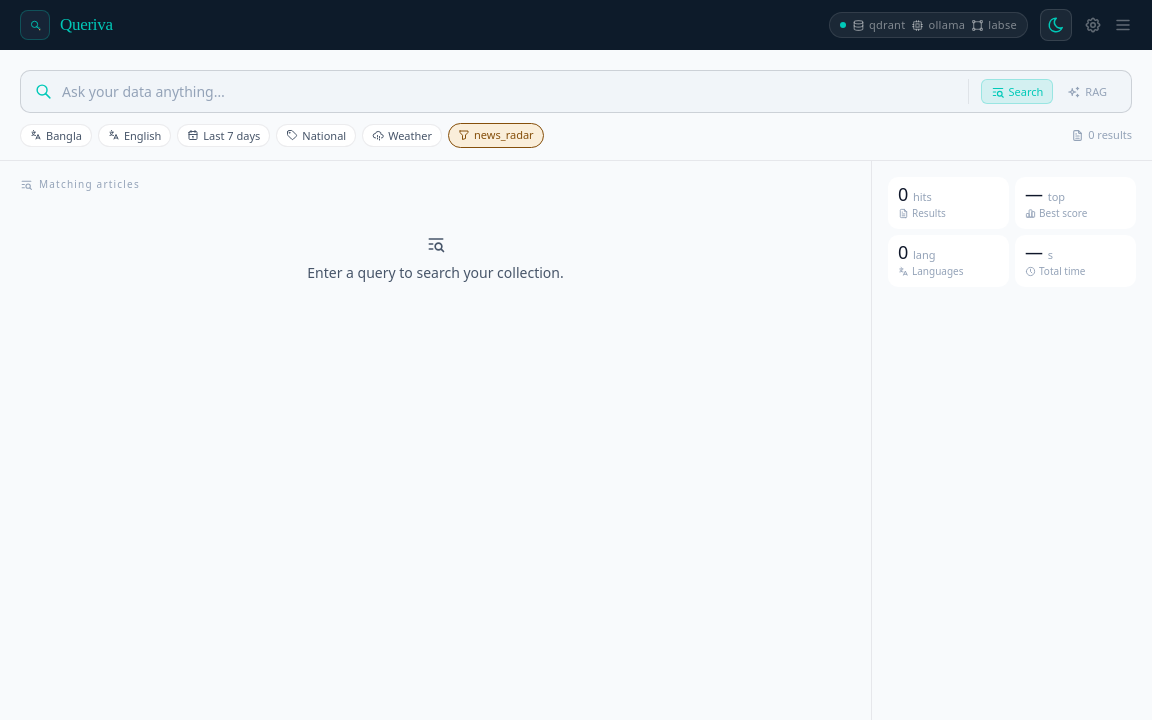
Test: App › should show ranked results after search flow in search mode
The width and height of the screenshot is (1152, 720).
Type "floods in Dhaka last week" into the search field named "Search query".
click(510, 92); type("floods in Dhaka last week")  # box [62, 71, 958, 112]
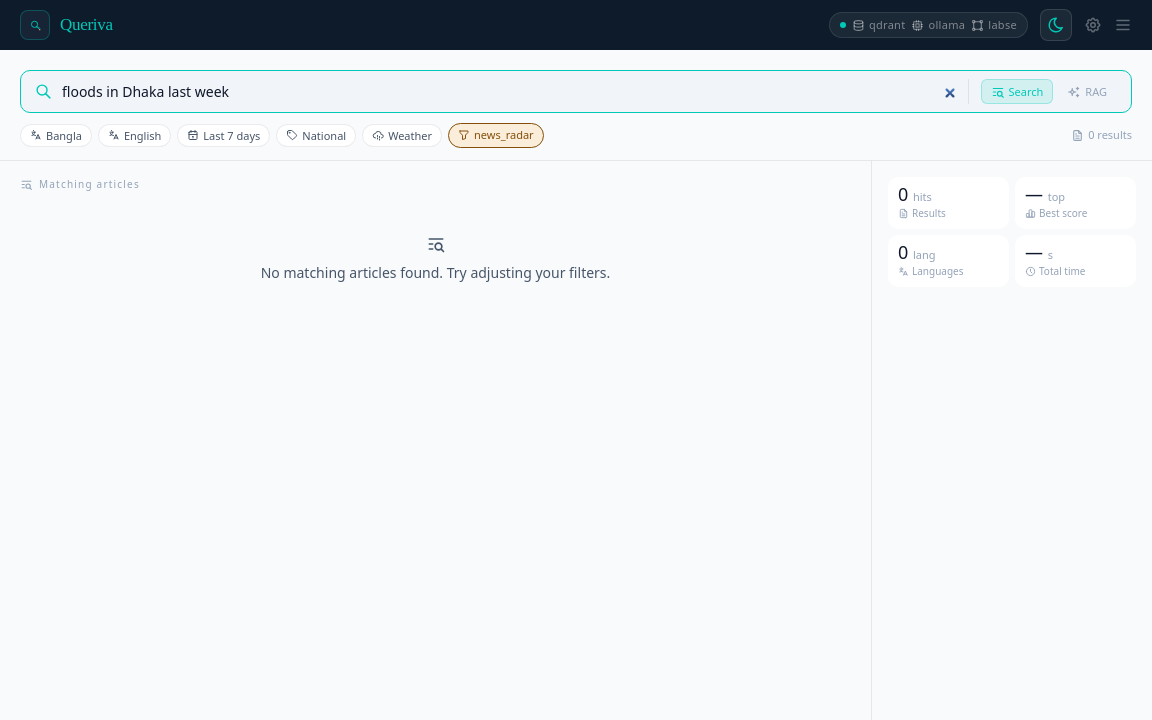
Press Enter
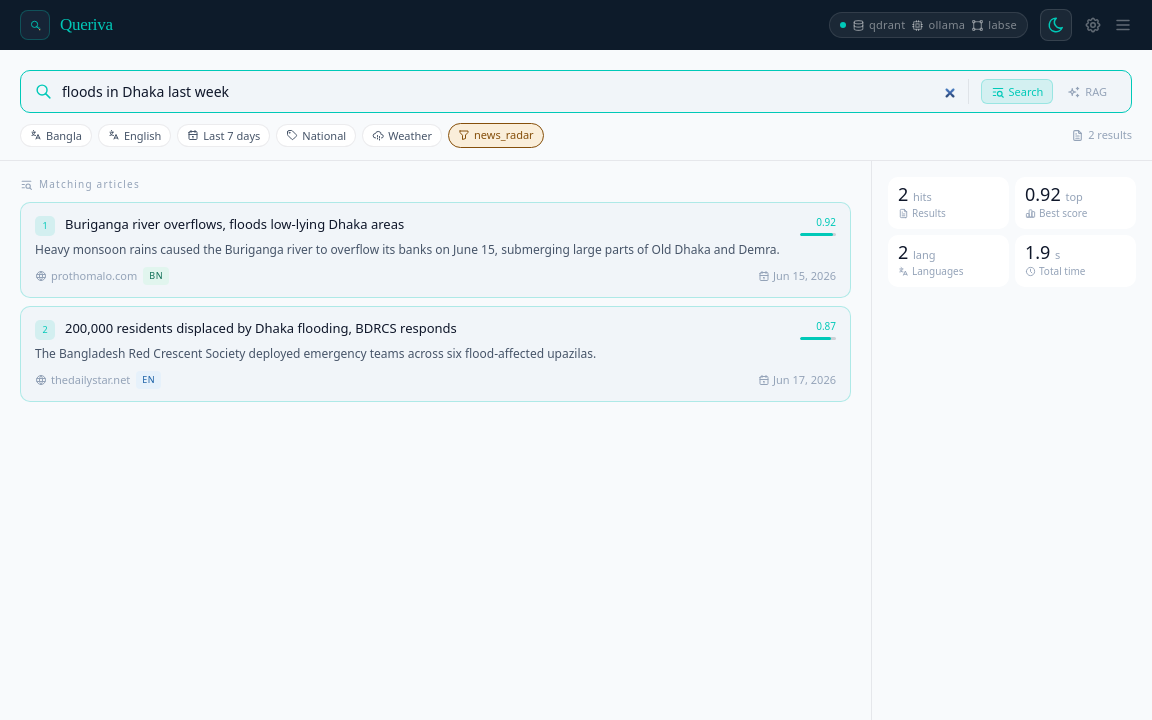
Result: the heading "Buriganga river overflows, floods low-lying Dhaka areas" is shown at [65, 214, 404, 232]
